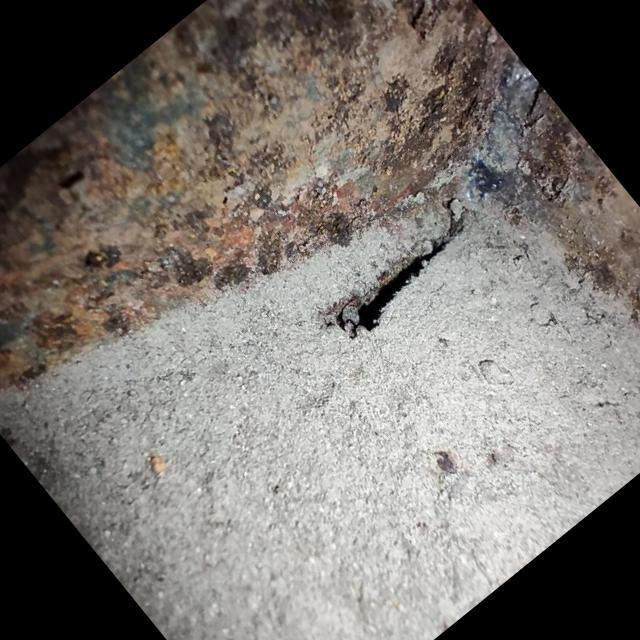defect: (331, 193, 470, 339)
